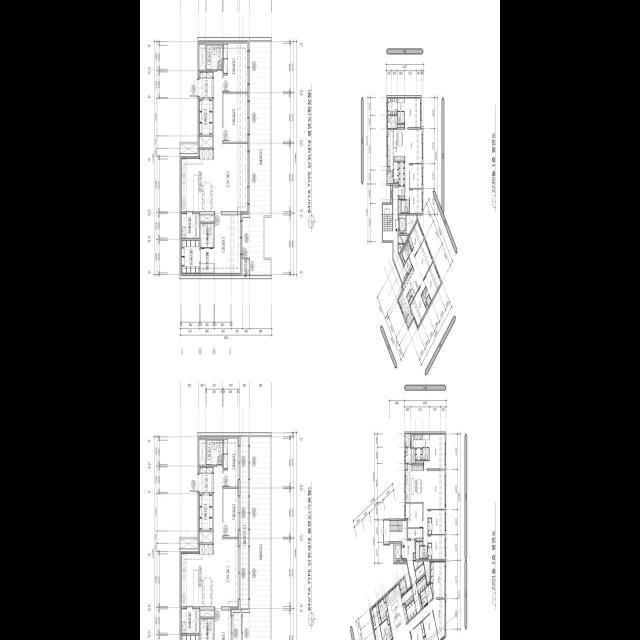background: (140, 0, 500, 640)
space_balconi: (233, 435, 248, 640), (405, 309, 414, 327), (399, 577, 407, 594), (405, 433, 411, 446), (387, 171, 393, 183)
space_bedroom: (215, 214, 241, 275), (223, 40, 248, 91), (223, 93, 248, 141), (223, 436, 239, 486), (223, 488, 239, 537), (424, 433, 445, 468), (410, 286, 427, 327), (424, 261, 441, 300), (408, 220, 424, 256), (214, 610, 232, 640), (431, 561, 445, 597), (405, 97, 421, 127), (423, 611, 438, 640), (428, 509, 445, 534), (428, 535, 445, 559), (405, 503, 422, 527), (410, 163, 422, 188), (410, 189, 422, 213), (411, 620, 425, 640), (428, 543, 432, 559), (428, 518, 432, 534)
space_dressroom: (181, 239, 200, 275), (370, 603, 381, 629), (387, 97, 397, 114), (412, 434, 422, 447), (415, 448, 422, 459)
space_elevator: (394, 543, 401, 562), (399, 215, 406, 233)
space_elevator_hall: (384, 520, 416, 584), (393, 185, 406, 282)
space_front: (199, 466, 213, 493), (199, 71, 213, 97), (412, 582, 422, 613), (416, 574, 427, 593), (406, 600, 416, 620), (408, 528, 423, 541), (404, 256, 412, 275), (399, 186, 405, 199)
space_kitchen: (181, 149, 214, 211), (181, 544, 214, 606), (385, 583, 408, 637), (398, 267, 420, 319), (387, 129, 405, 169), (405, 463, 423, 502)
space_living_room: (214, 71, 248, 213), (213, 466, 239, 609), (393, 599, 445, 640), (423, 470, 445, 545), (409, 238, 433, 291), (405, 127, 422, 199)
space_multipurpose_space: (181, 213, 199, 238), (181, 608, 199, 633)
space_other: (199, 494, 212, 530), (199, 99, 212, 134), (402, 587, 414, 606), (378, 598, 387, 622), (407, 215, 417, 233), (180, 143, 197, 153), (415, 563, 425, 579), (180, 539, 197, 548), (199, 439, 205, 464), (405, 447, 415, 462), (199, 44, 205, 69), (423, 561, 430, 582), (399, 161, 405, 185), (199, 136, 212, 147), (199, 531, 212, 542), (387, 115, 397, 128), (394, 161, 399, 183), (416, 541, 422, 559), (200, 214, 214, 221), (413, 561, 423, 570), (200, 610, 214, 616), (398, 235, 408, 243), (400, 252, 405, 265), (398, 244, 404, 253), (386, 610, 389, 624), (409, 295, 413, 304), (430, 583, 433, 595), (399, 200, 401, 213), (397, 124, 404, 127), (383, 596, 386, 602), (391, 185, 392, 202), (415, 460, 423, 462), (405, 464, 408, 469), (402, 559, 407, 562), (426, 304, 428, 310), (413, 553, 415, 559), (387, 166, 390, 169)
space_outdoor_room: (243, 259, 249, 275)
space_staircase: (383, 204, 393, 240), (390, 520, 402, 531)
space_toilet: (200, 223, 214, 275), (206, 439, 222, 464), (206, 44, 222, 69), (200, 618, 214, 640), (380, 619, 392, 640), (402, 241, 411, 262), (397, 97, 404, 123), (421, 287, 431, 305), (425, 584, 433, 602), (374, 625, 382, 640), (401, 200, 409, 212), (420, 546, 428, 558), (422, 434, 429, 447), (420, 589, 426, 600), (421, 596, 427, 607), (422, 447, 426, 459), (426, 447, 429, 459)
